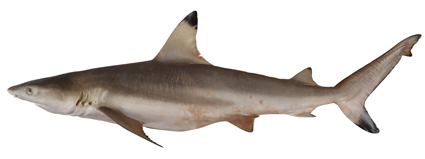fish: (8, 10, 422, 149)
